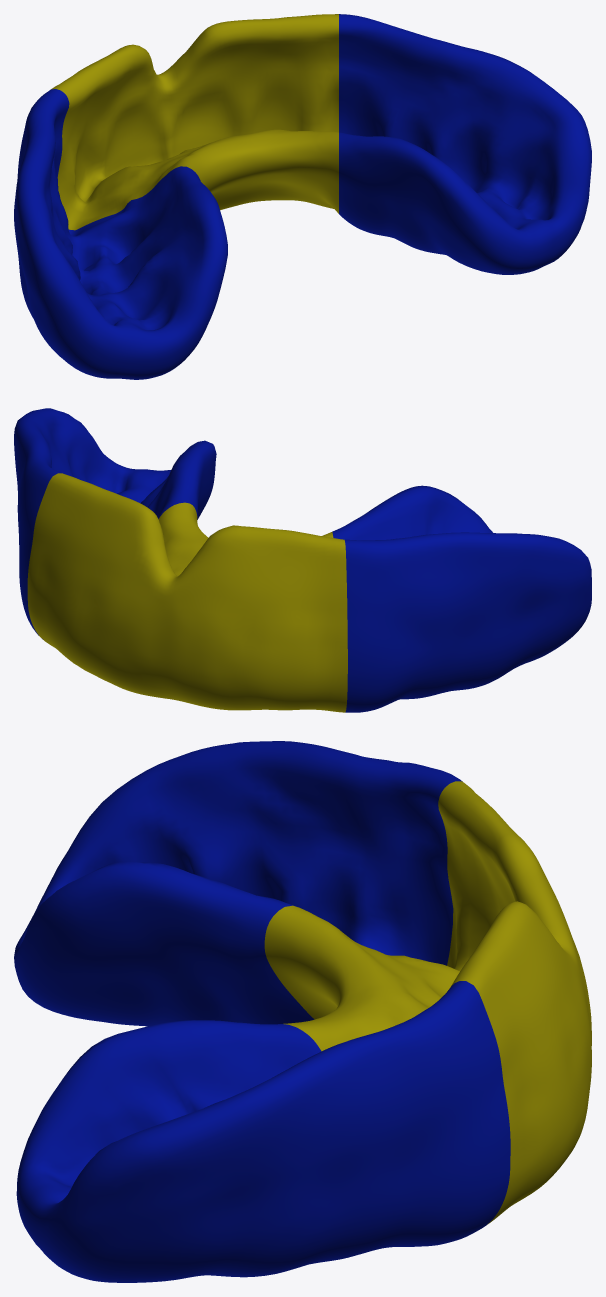
File: mouthguard_3color.FBX
The picture shows the model from 3 angles, top to bottom: view 1: azimuth 30°, elevation 25°; view 2: azimuth 150°, elevation 25°; view 3: azimuth 270°, elevation 25°; orthographic projection. The views are drawn at different scales.
Parts seen in each view (by area): view 1: Object001, teasguard002, Object003; view 2: teasguard002, Object003, Object001; view 3: Object001, Object003, teasguard002.
Boxes of the visible parts, box(x1,y1,x2,y2) form: Object001: box(339, 14, 591, 274); teasguard002: box(51, 14, 338, 230); Object003: box(14, 89, 227, 379); teasguard002: box(27, 473, 347, 712); Object003: box(332, 485, 591, 712); Object001: box(14, 408, 216, 639); Object001: box(16, 981, 510, 1282); Object003: box(14, 741, 462, 1026); teasguard002: box(264, 781, 591, 1224).
Bounding box in the file's own units: 4546 × 1525 × 2862.
